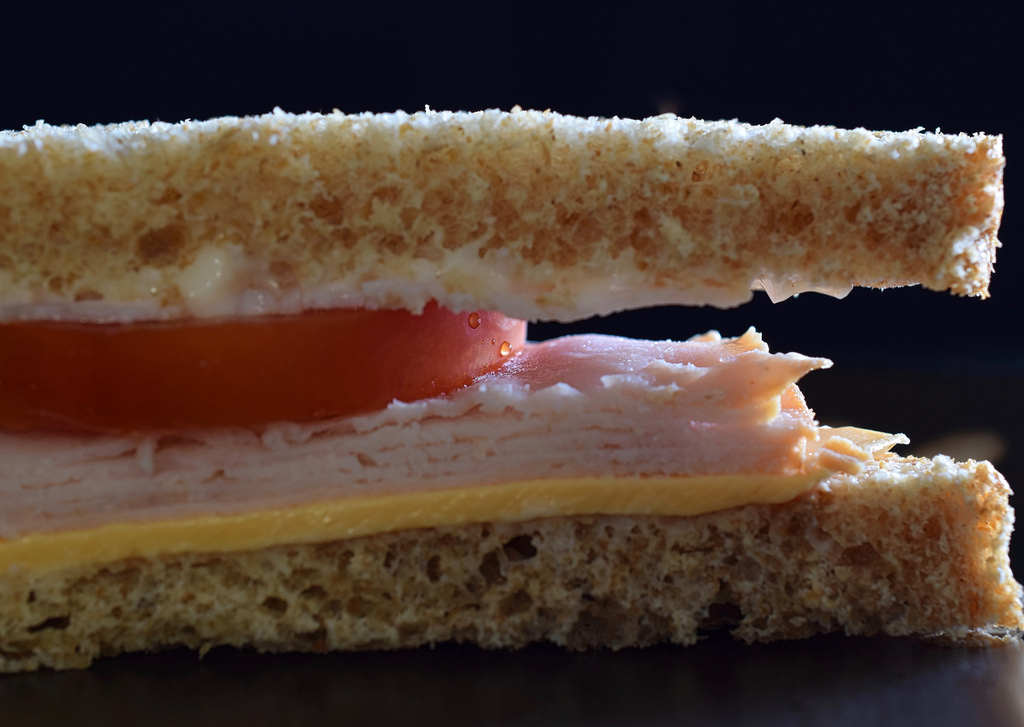slice of bread: (4, 114, 993, 296), (4, 552, 1019, 640)
